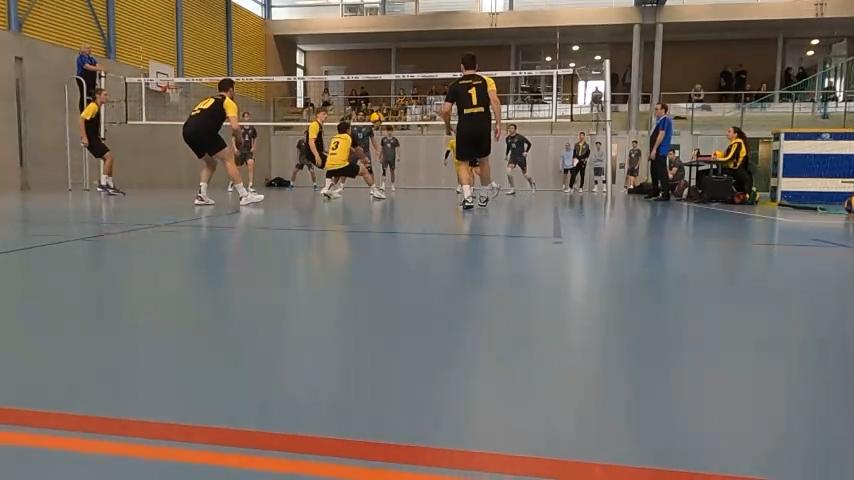Player: (182, 78, 263, 204), (441, 53, 501, 208), (79, 88, 124, 194), (505, 124, 535, 194), (233, 112, 257, 192), (288, 130, 317, 190), (351, 110, 378, 174), (304, 108, 327, 168), (443, 138, 467, 193), (380, 126, 399, 191)
Receive: (316, 120, 387, 202)
ball: (369, 111, 385, 126)
